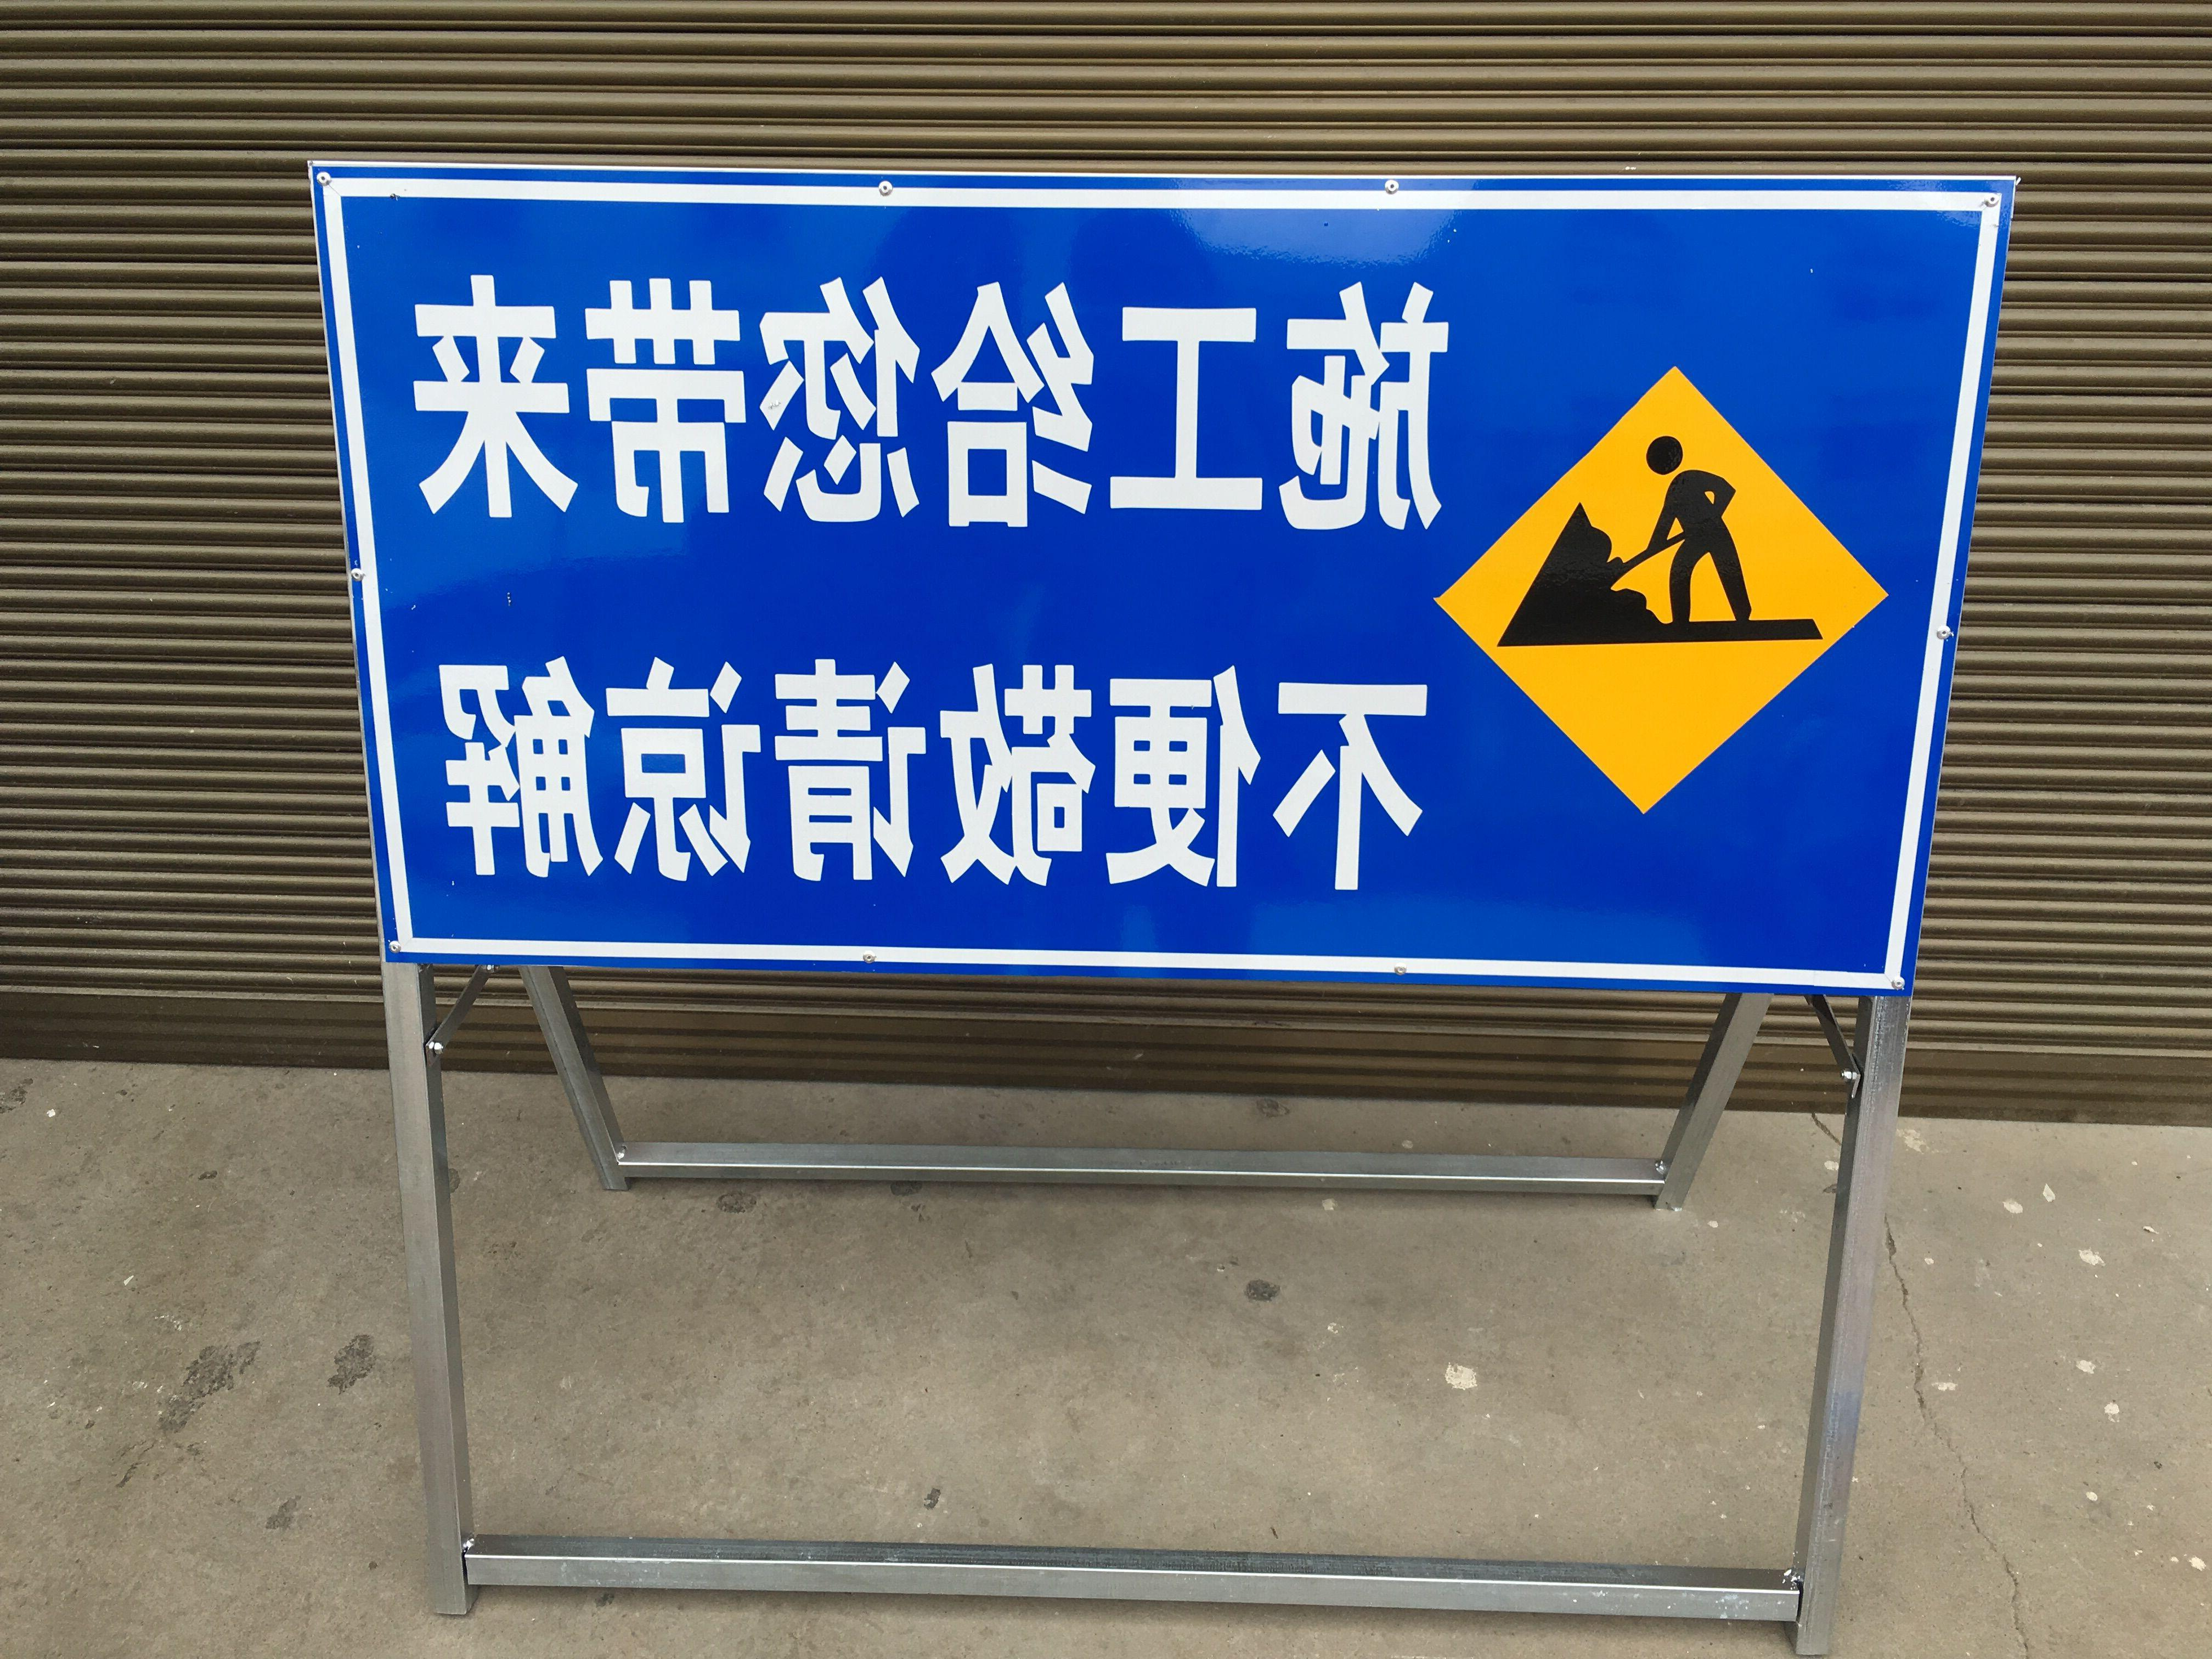sign: (301, 157, 2027, 1002)
